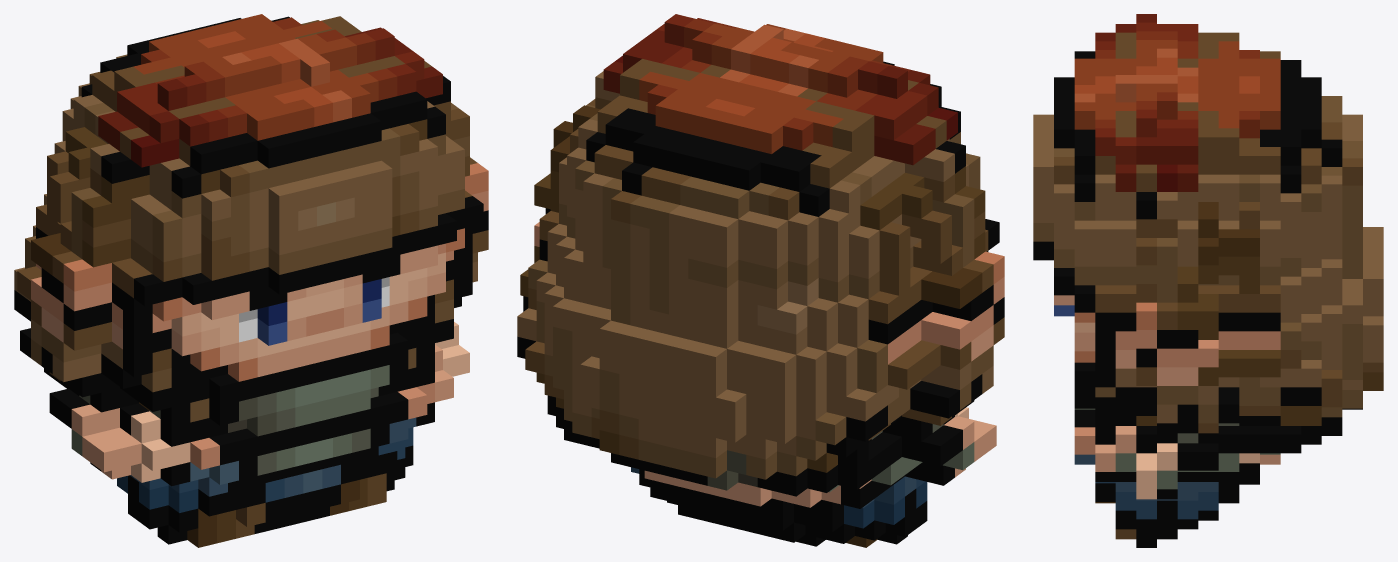
The model's file is Icon_750_02.obj.
3 views of the same model, side by side, from view 1: azimuth 30°, elevation 25°; view 2: azimuth 150°, elevation 25°; view 3: azimuth 270°, elevation 25° (orthographic). The views are drawn at different scales.
Bounding box in the file's own units: 2.2 × 2.3 × 1.7.
Materials: 1 (1 with a texture image).
